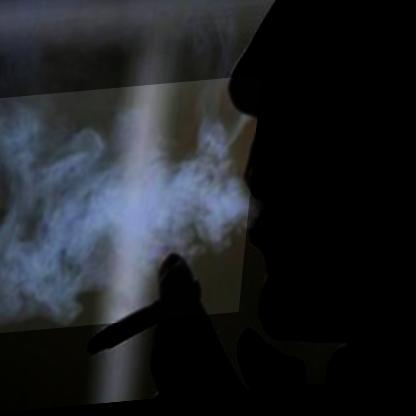smoke: (0, 80, 263, 336)
